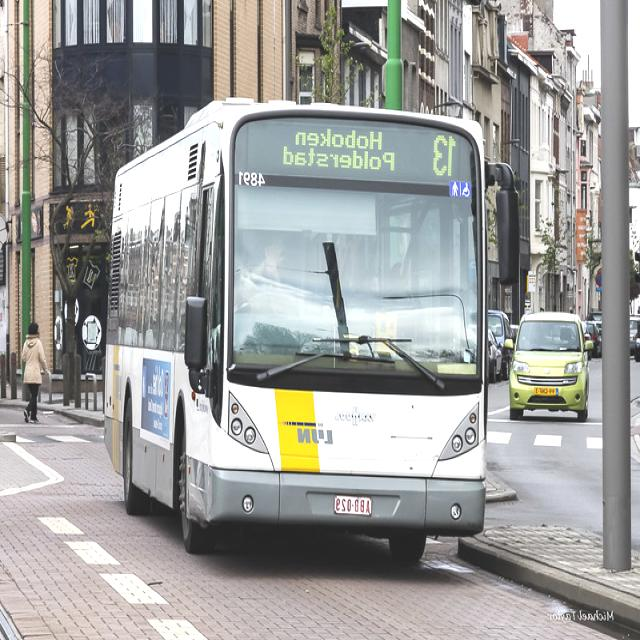bus-number: (431, 132, 457, 180)
